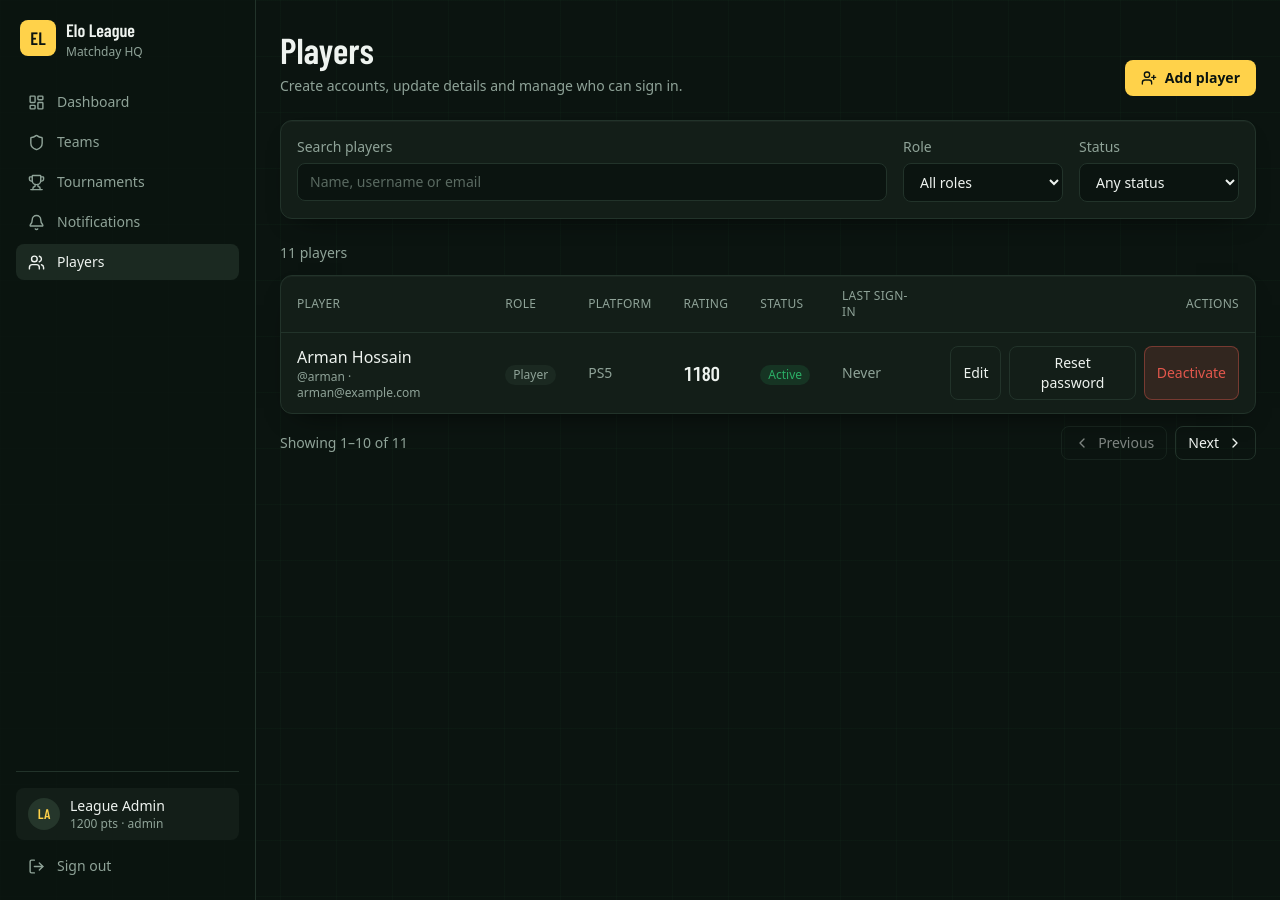
the player list › moves between pages
Check: the text "Showing 1–10 of 11" is shown, box x1=280 y1=433 x2=408 y2=453
Check: the button with aria-label "Previous page" is disabled, box x1=1061 y1=426 x2=1167 y2=460
Click the button with aria-label "Next page": (1216, 443) x1=1175 y1=426 x2=1256 y2=460
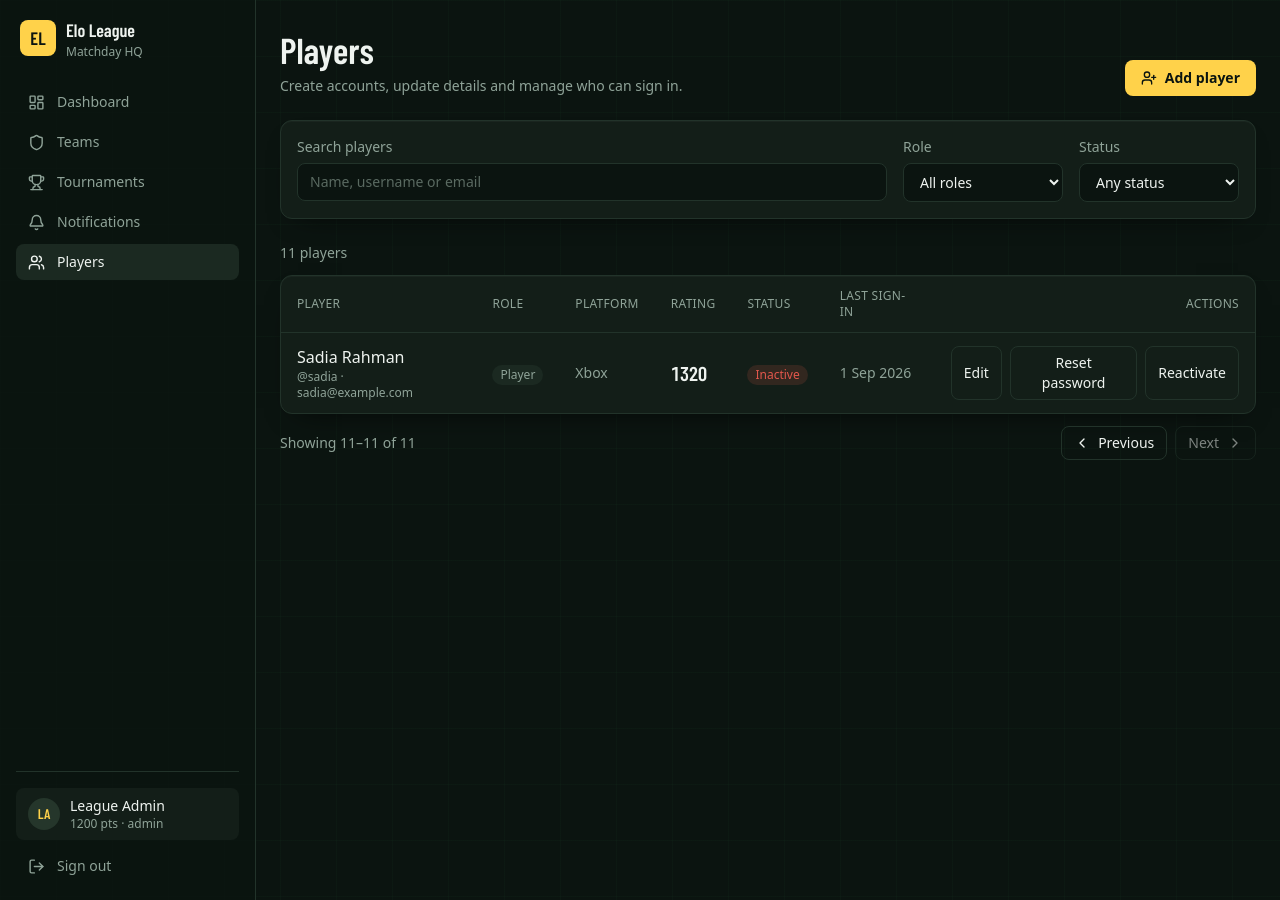
Check: the text "Showing 11–11 of 11" is shown, box x1=280 y1=433 x2=416 y2=453
Check: the button with aria-label "Next page" is disabled, box x1=1175 y1=426 x2=1256 y2=460
Check: the button with aria-label "Previous page" is enabled, box x1=1061 y1=426 x2=1167 y2=460
